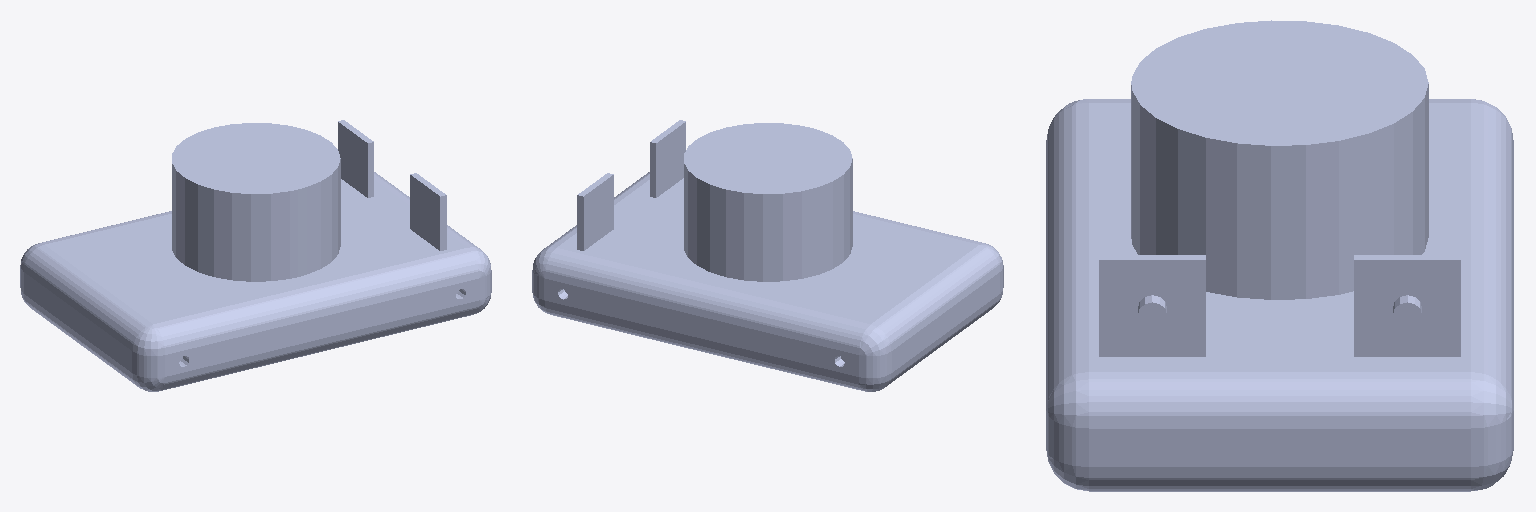
URDF robot description (my_navigation_impl):
<?xml version="1.0" encoding="utf-8"?>
<!-- This URDF was automatically created by SolidWorks to URDF Exporter! Originally created by [author] ([email redacted]) 
     Commit Version: 1.6.0-4-g7f85cfe  Build Version: 1.6.7995.38578
     For more information, please see http://wiki.ros.org/sw_urdf_exporter -->
<robot
  name="my_navigation_impl">
  <link
    name="base_link">
    <inertial>
      <origin
        xyz="-0.00120819397481913 0.00583609620014158 0.0177572450595865"
        rpy="0 0 0" />
      <mass
        value="0.693331823568784" />
      <inertia
        ixx="0.000768852379896162"
        ixy="-5.12753300403153E-20"
        ixz="-5.18241204109562E-06"
        iyy="0.00151231644756755"
        iyz="2.3340928909064E-20"
        izz="0.00186744982908071" />
    </inertial>
    <visual>
      <origin
        xyz="0 0 0"
        rpy="0 0 0" />
      <geometry>
        <mesh
          filename="package://my_navigation_impl/meshes/base_link.STL" />
      </geometry>
      <material
        name="">
        <color
          rgba="0.792156862745098 0.819607843137255 0.933333333333333 1" />
      </material>
    </visual>
    <collision>
      <origin
        xyz="0 0 0"
        rpy="0 0 0" />
      <geometry>
        <mesh
          filename="package://my_navigation_impl/meshes/base_link.STL" />
      </geometry>
    </collision>
  </link>
  <link
    name="FL_wheel">
    <inertial>
      <origin
        xyz="-1.73472347597681E-18 1.38777878078145E-17 0.0323201178441002"
        rpy="0 0 0" />
      <mass
        value="0.0346791977367494" />
      <inertia
        ixx="1.41585015301741E-05"
        ixy="2.01170324972896E-21"
        ixz="2.44696193864003E-22"
        iyy="1.41585015301741E-05"
        iyz="7.0885799208265E-22"
        izz="2.53540976405827E-05" />
    </inertial>
    <visual>
      <origin
        xyz="0 0 0"
        rpy="0 0 0" />
      <geometry>
        <mesh
          filename="package://my_navigation_impl/meshes/FL_wheel.STL" />
      </geometry>
      <material
        name="">
        <color
          rgba="1 1 0 1" />
      </material>
    </visual>
    <collision>
      <origin
        xyz="0 0 0"
        rpy="0 0 0" />
      <geometry>
        <mesh
          filename="package://my_navigation_impl/meshes/FL_wheel.STL" />
      </geometry>
    </collision>
  </link>
  <joint
    name="FL_joint"
    type="continuous">
    <origin
      xyz="0.0644098251287604 0.0558360962001416 0.00982536770135314"
      rpy="-1.5707963267949 1.50486401595057 0" />
    <parent
      link="base_link" />
    <child
      link="FL_wheel" />
    <axis
      xyz="0 0 1" />
  </joint>
  <link
    name="FR_wheel">
    <inertial>
      <origin
        xyz="9.71445146547012E-17 1.59594559789866E-16 0.0323201178441002"
        rpy="0 0 0" />
      <mass
        value="0.0346791977367494" />
      <inertia
        ixx="1.41585015301741E-05"
        ixy="-1.85288457211878E-21"
        ixz="-2.21000106931829E-21"
        iyy="1.41585015301741E-05"
        iyz="1.15665347132748E-21"
        izz="2.53540976405827E-05" />
    </inertial>
    <visual>
      <origin
        xyz="0 0 0"
        rpy="0 0 0" />
      <geometry>
        <mesh
          filename="package://my_navigation_impl/meshes/FR_wheel.STL" />
      </geometry>
      <material
        name="">
        <color
          rgba="1 1 0 1" />
      </material>
    </visual>
    <collision>
      <origin
        xyz="0 0 0"
        rpy="0 0 0" />
      <geometry>
        <mesh
          filename="package://my_navigation_impl/meshes/FR_wheel.STL" />
      </geometry>
    </collision>
  </link>
  <joint
    name="FR_joint"
    type="continuous">
    <origin
      xyz="0.0644098251287605 -0.0441639037998584 0.00982536770135312"
      rpy="1.5707963267949 0.0589239498814076 0" />
    <parent
      link="base_link" />
    <child
      link="FR_wheel" />
    <axis
      xyz="0 0 1" />
  </joint>
  <link
    name="BR_wheel">
    <inertial>
      <origin
        xyz="0 2.08166817117217E-17 0.0323201178441002"
        rpy="0 0 0" />
      <mass
        value="0.0346791977367494" />
      <inertia
        ixx="1.41585015301741E-05"
        ixy="0"
        ixz="2.79360249507235E-22"
        iyy="1.41585015301741E-05"
        iyz="6.39147386862793E-21"
        izz="2.53540976405827E-05" />
    </inertial>
    <visual>
      <origin
        xyz="0 0 0"
        rpy="0 0 0" />
      <geometry>
        <mesh
          filename="package://my_navigation_impl/meshes/BR_wheel.STL" />
      </geometry>
      <material
        name="">
        <color
          rgba="1 1 0 1" />
      </material>
    </visual>
    <collision>
      <origin
        xyz="0 0 0"
        rpy="0 0 0" />
      <geometry>
        <mesh
          filename="package://my_navigation_impl/meshes/BR_wheel.STL" />
      </geometry>
    </collision>
  </link>
  <joint
    name="BR_joint"
    type="continuous">
    <origin
      xyz="-0.0675901748712395 -0.0441639037998584 0.00982536770135312"
      rpy="1.5707963267949 -0.82700358095234 0" />
    <parent
      link="base_link" />
    <child
      link="BR_wheel" />
    <axis
      xyz="0 0 1" />
  </joint>
  <link
    name="BL_wheel">
    <inertial>
      <origin
        xyz="-7.35522753814166E-16 2.98372437868011E-16 0.0323201178441002"
        rpy="0 0 0" />
      <mass
        value="0.0346791977367494" />
      <inertia
        ixx="1.41585015301741E-05"
        ixy="4.12928561786471E-21"
        ixz="2.64541163984239E-21"
        iyy="1.41585015301741E-05"
        iyz="-2.979508546196E-23"
        izz="2.53540976405827E-05" />
    </inertial>
    <visual>
      <origin
        xyz="0 0 0"
        rpy="0 0 0" />
      <geometry>
        <mesh
          filename="package://my_navigation_impl/meshes/BL_wheel.STL" />
      </geometry>
      <material
        name="">
        <color
          rgba="1 1 0 1" />
      </material>
    </visual>
    <collision>
      <origin
        xyz="0 0 0"
        rpy="0 0 0" />
      <geometry>
        <mesh
          filename="package://my_navigation_impl/meshes/BL_wheel.STL" />
      </geometry>
    </collision>
  </link>
  <joint
    name="BL_joint"
    type="continuous">
    <origin
      xyz="-0.0675901748712395 0.0558360962001415 0.00982536770135311"
      rpy="1.5707963267949 0.0913241498042733 -3.14159265358979" />
    <parent
      link="base_link" />
    <child
      link="BL_wheel" />
    <axis
      xyz="0 0 1" />
  </joint>
</robot>

--- What the picture shows (computed from the rendered views, not written in the file) ---
3 views of the same robot in one strip: view 1: azimuth 30°, elevation 25°; view 2: azimuth 150°, elevation 25°; view 3: azimuth 270°, elevation 25° (orthographic).
Robot: my_navigation_impl — 5 links, 4 joints (4 continuous); root link base_link; default pose: every joint at zero.
Visible links, largest first — view 1: base_link; view 2: base_link; view 3: base_link.
Link boxes in pixels (x1=…): base_link: x1=20, y1=120, x2=491, y2=391; base_link: x1=532, y1=120, x2=1003, y2=391; base_link: x1=1046, y1=20, x2=1513, y2=491.
Size in the robot's own frame: 0.17 by 0.11 by 0.07 metres.
Meshes: 5 distinct files referenced, 1 mesh visuals loaded (1 binary STL); not drawn: 4 (reference not matched to a file when rendering).